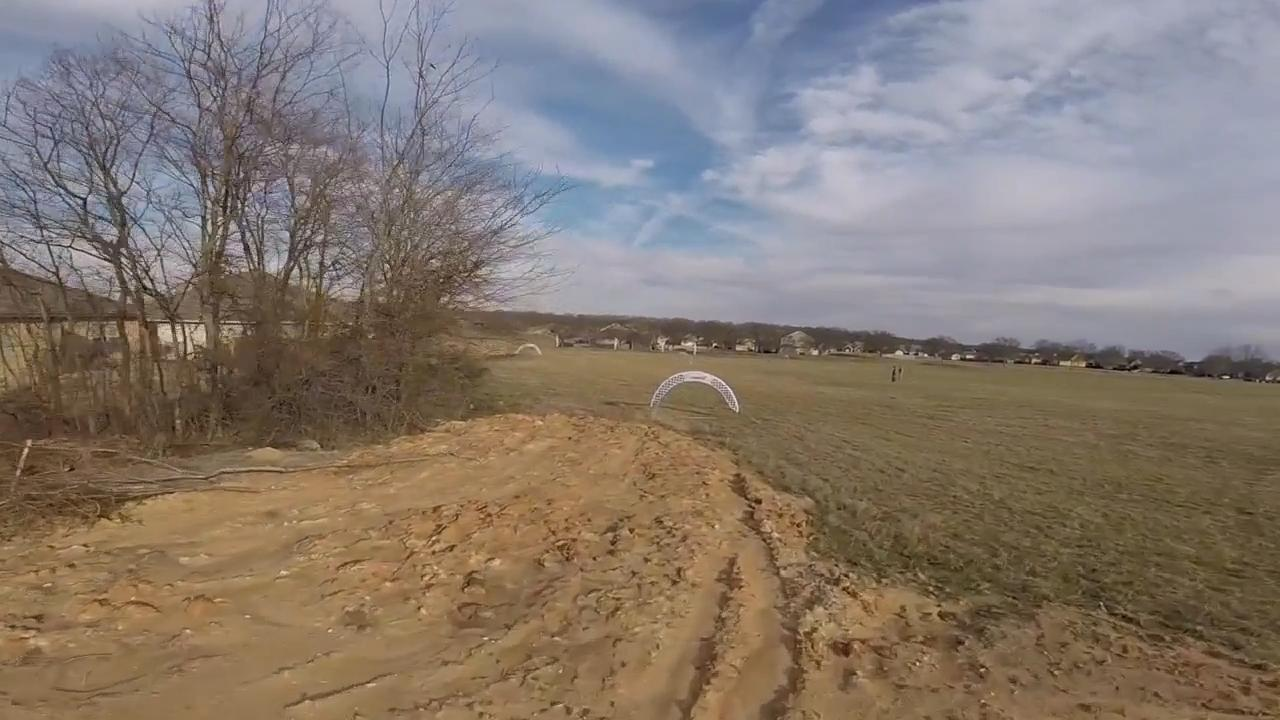gate: (645, 369, 743, 417)
